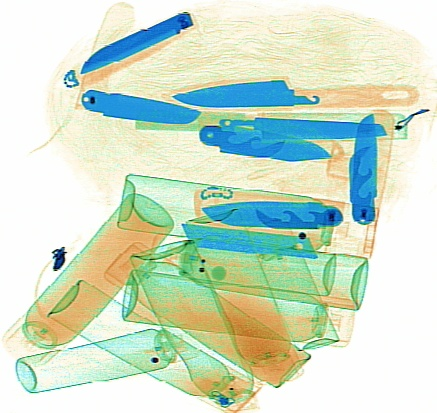knife: (71, 1, 199, 125), (76, 8, 194, 86), (132, 107, 394, 142), (160, 75, 419, 110), (192, 187, 345, 230), (197, 118, 343, 162), (345, 108, 394, 226), (180, 221, 315, 259)
pressure: (102, 239, 310, 389), (1, 190, 175, 365), (45, 276, 260, 410), (117, 172, 379, 260), (127, 236, 259, 410), (180, 205, 304, 384), (120, 266, 355, 349), (145, 231, 368, 310), (12, 320, 199, 394), (149, 231, 336, 296)
